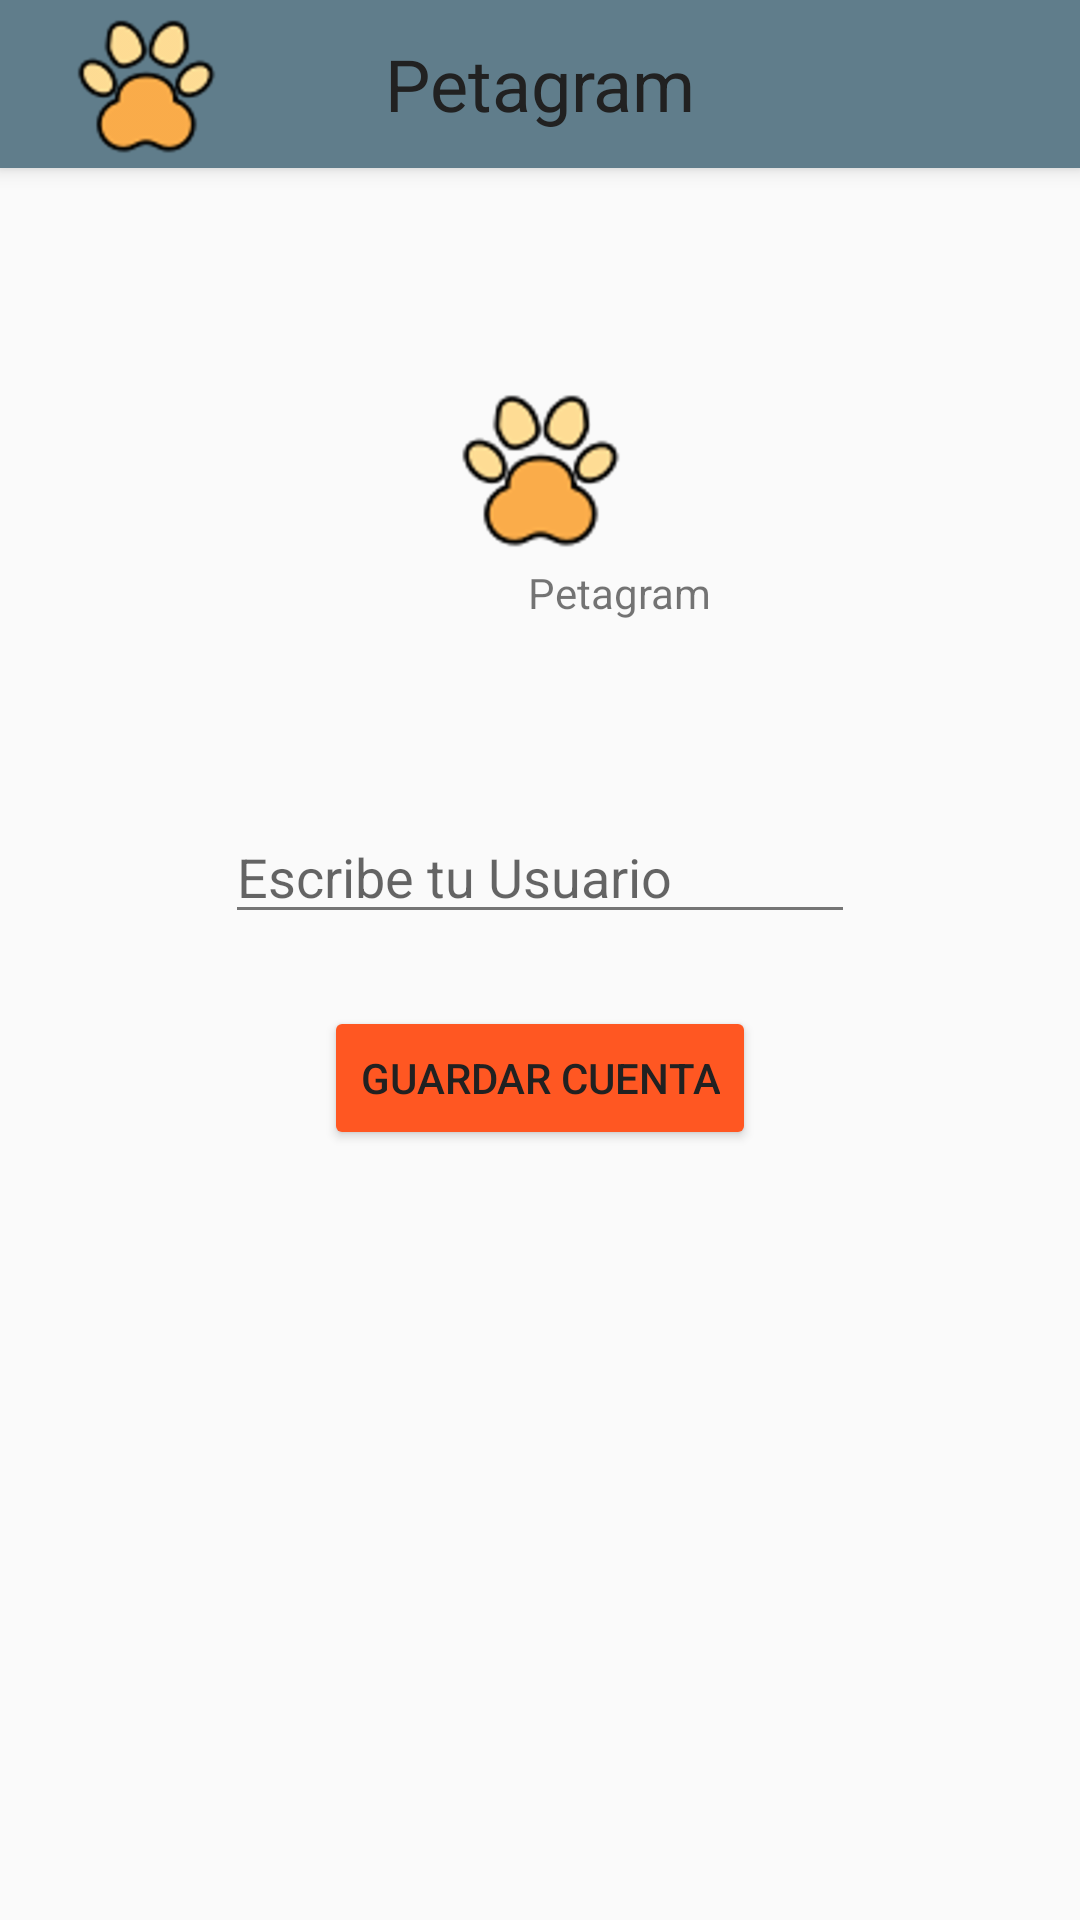

Locate icon controls on the screen. Image size 1080x1920, boxes as (x1, y1, x2, y2).
pet: (78, 20, 215, 153), (462, 395, 620, 547)
